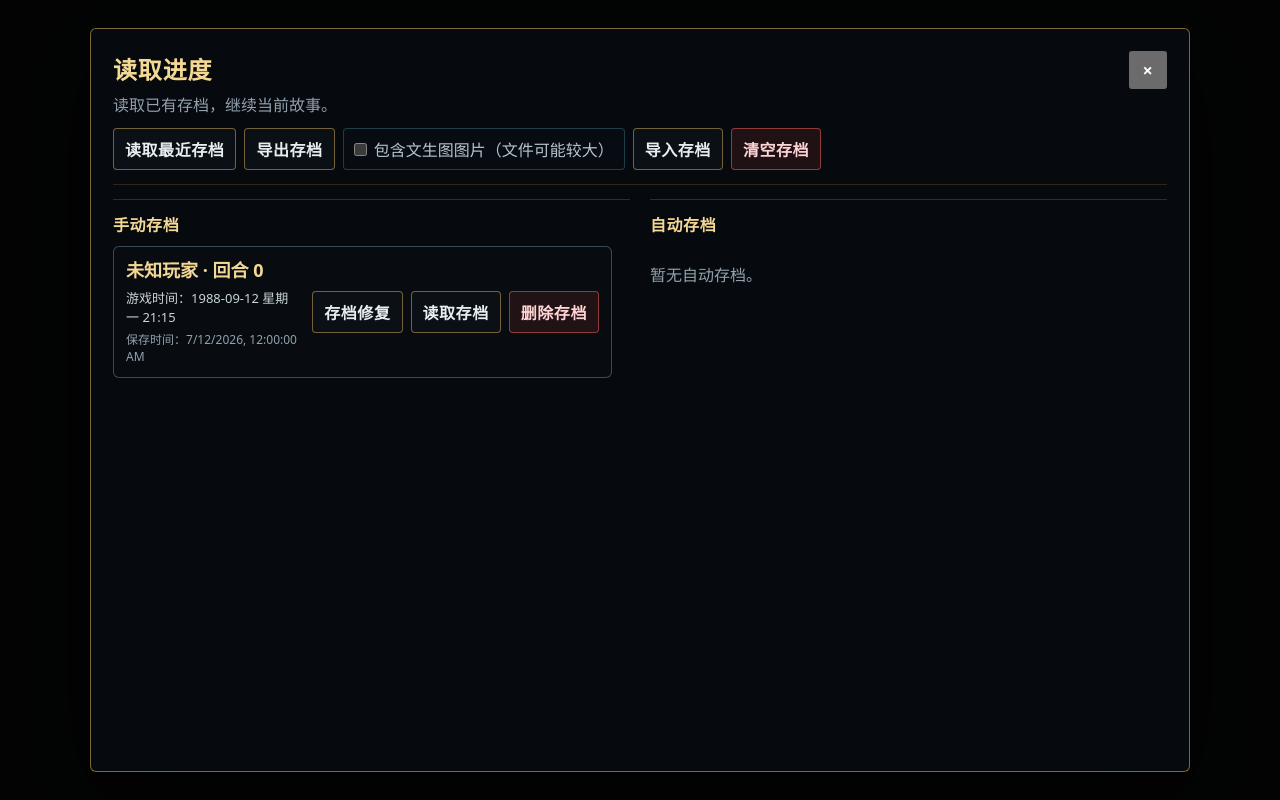
it: SaveManagerModal import › runs a confirmed scoped save repair and shows its result
This screenshot has width=1280, height=800.
Click the button "存档修复" at (357, 312), box [312,291,403,333]
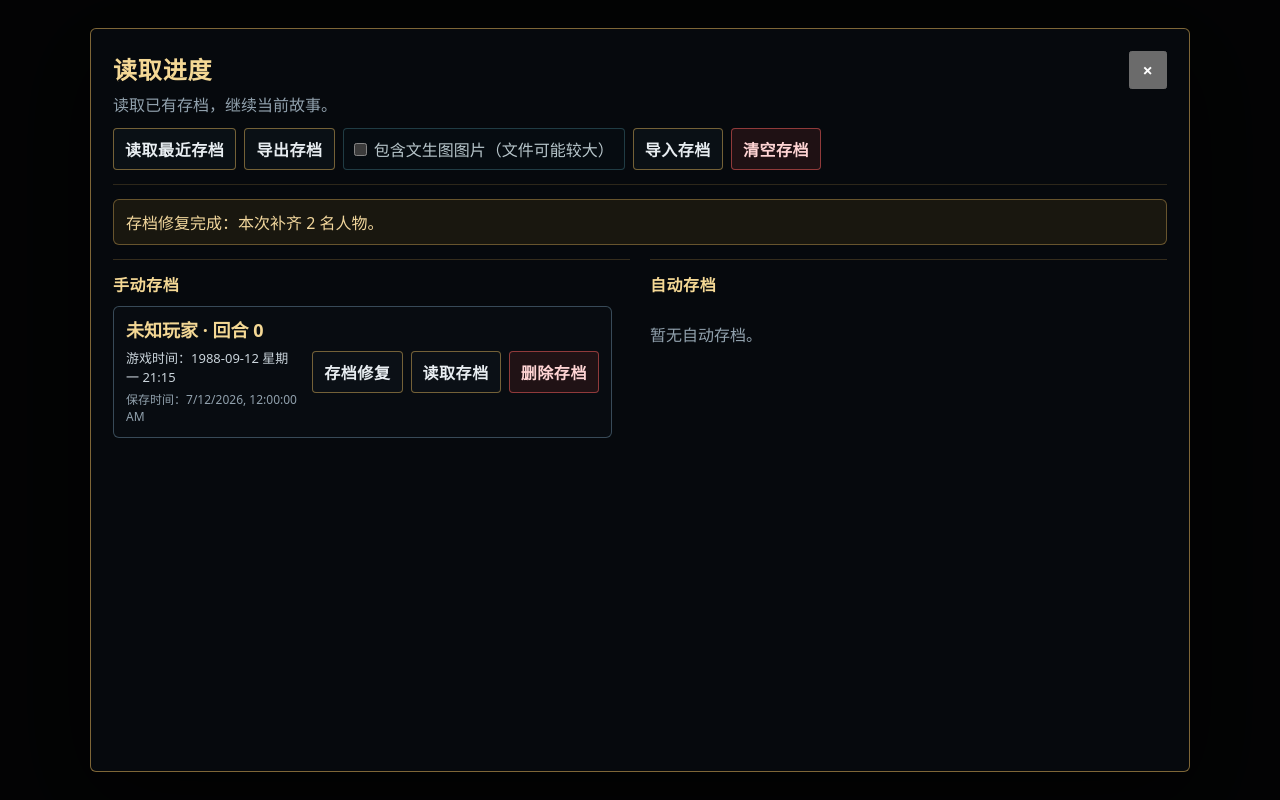
Expected: the message shows "本次补齐 2 名人物", [126,212,384,234]
